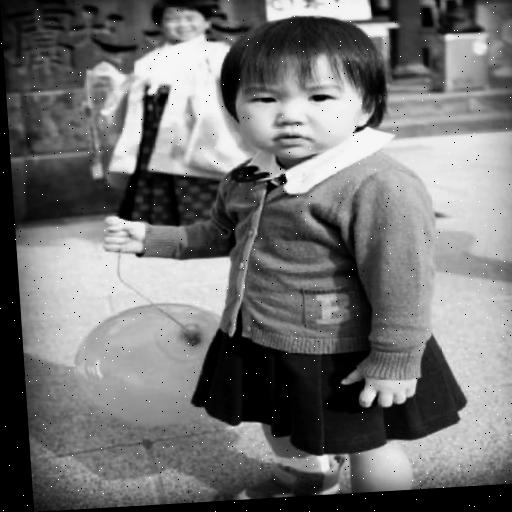balloon: (51, 291, 262, 447)
